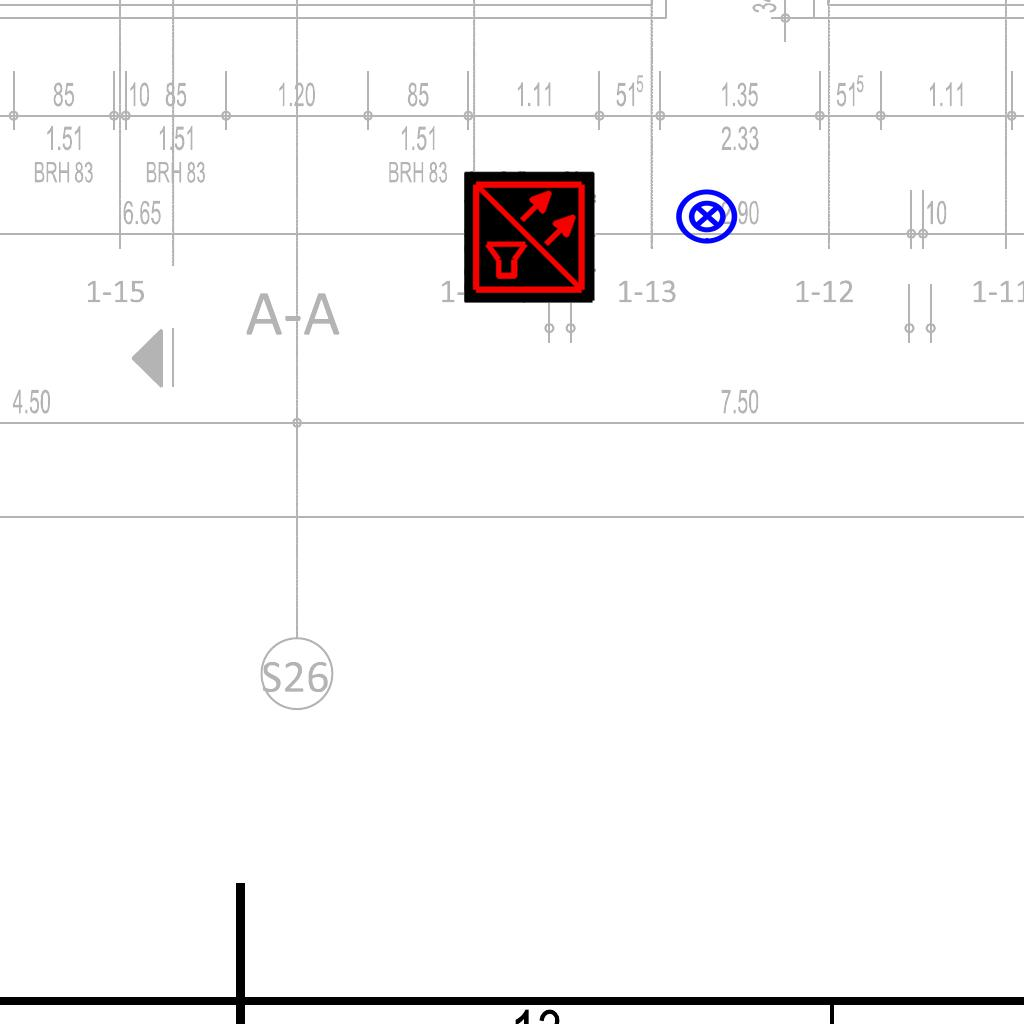OKW_Multisensormelder_(Kombination_optischer_Rauch-Kahlenmonoxid_Waerme-Melder): (464, 171, 596, 303)
Taster_beleuchtet: (674, 183, 740, 249)
